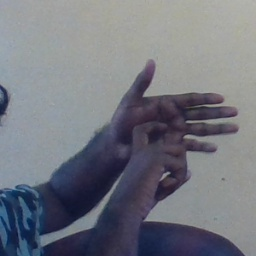R: (98, 56, 239, 201)
